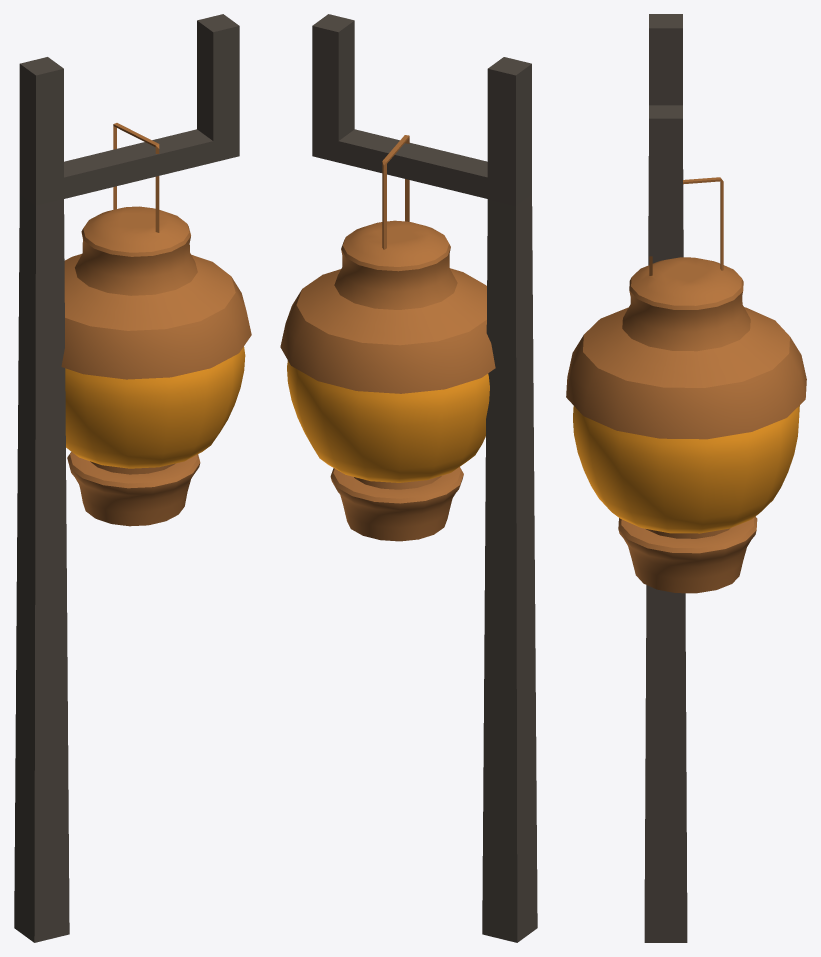
Rendered from Hanging.fbx.
The picture shows the model from 3 angles, left to right: view 1: azimuth 30°, elevation 25°; view 2: azimuth 150°, elevation 25°; view 3: azimuth 270°, elevation 25°; orthographic projection. The views are drawn at different scales.
Parts seen in each view (by area): view 1: Plane.005, Circle.001; view 2: Plane.005, Circle.001; view 3: Circle.001, Plane.005.
Boxes of the visible parts, box(x1,y1,x2,y2) form: Plane.005: box(14, 14, 239, 942); Circle.001: box(61, 123, 251, 526); Plane.005: box(312, 14, 537, 942); Circle.001: box(280, 135, 495, 541); Circle.001: box(566, 177, 806, 593); Plane.005: box(644, 14, 687, 942).
Bounding box in the file's own units: 126 × 471 × 113.
